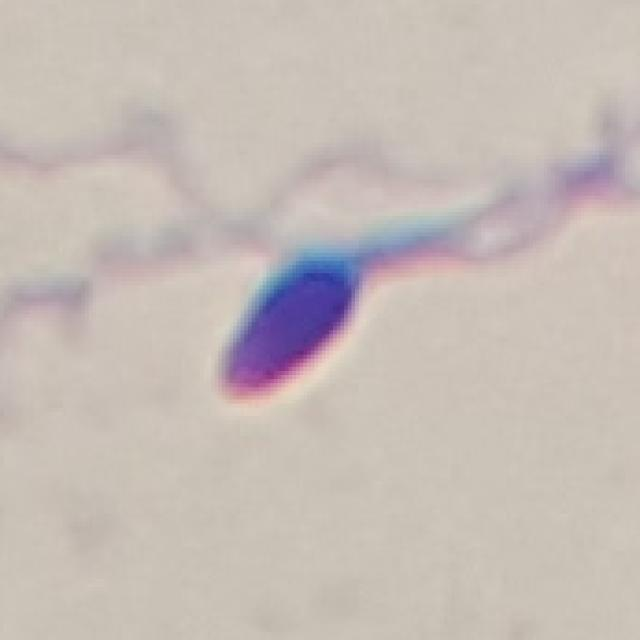abnormal sperm: (205, 187, 532, 415)
